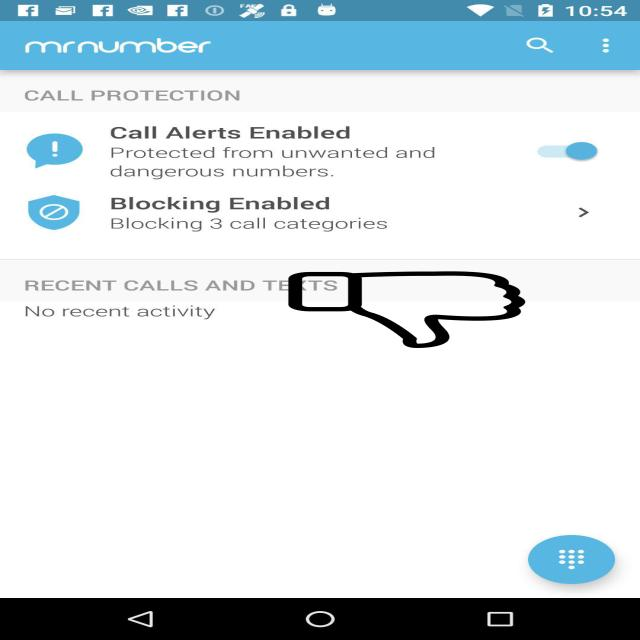obstruction: (285, 271, 529, 348)
